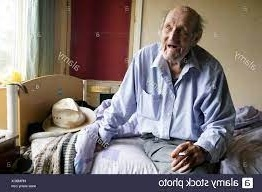not_fallen: (95, 4, 238, 178)
